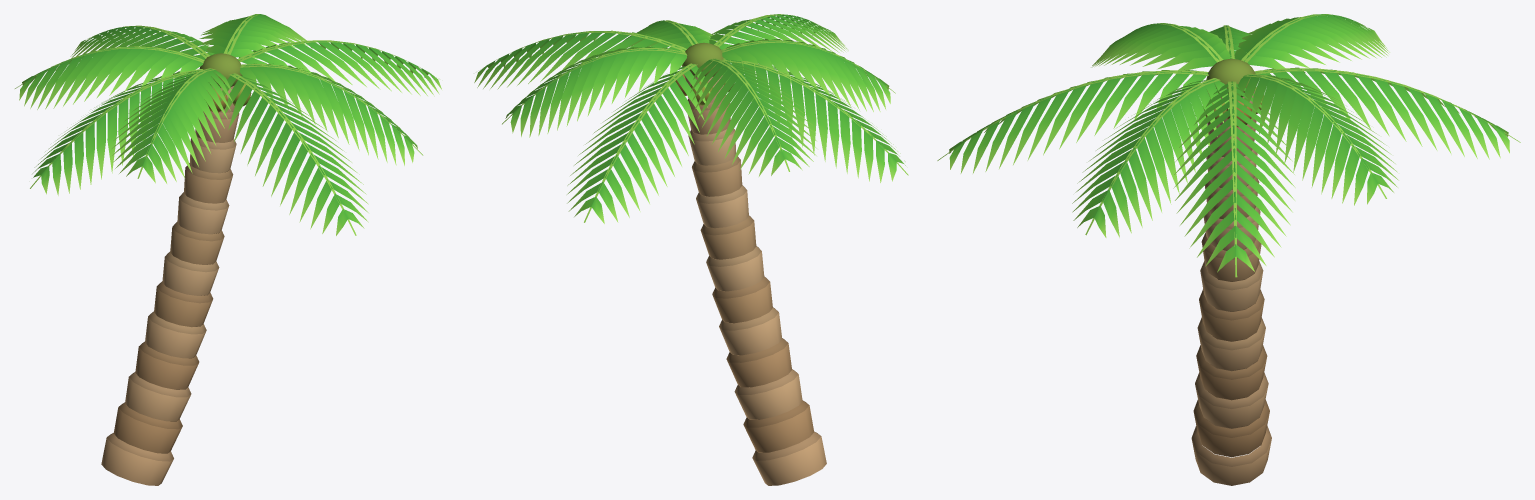
File: palm_b.glb
The picture shows the model from 3 angles, left to right: view 1: azimuth 30°, elevation 25°; view 2: azimuth 150°, elevation 25°; view 3: azimuth 270°, elevation 25°; orthographic projection. The views are drawn at different scales.
Parts seen in each view (by area): view 1: Palm_B; view 2: Palm_B; view 3: Palm_B.
Part boxes in pixels (box(x1,y1,x2,y2)): Palm_B: box(15, 14, 441, 485); Palm_B: box(474, 14, 908, 485); Palm_B: box(937, 14, 1520, 485).
Size of the model in its own units: 5.14 by 4.82 by 5.48.
